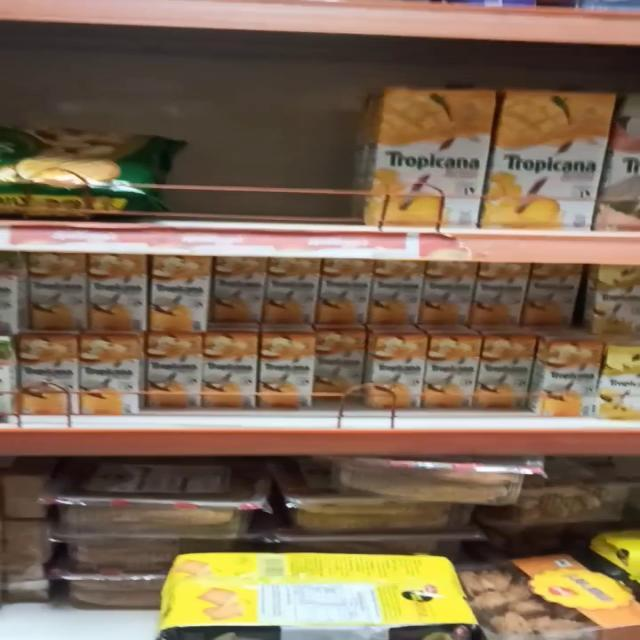Tropicana: (348, 79, 492, 226), (495, 82, 609, 230), (20, 254, 90, 330), (80, 333, 147, 412), (540, 341, 608, 417), (144, 336, 210, 412), (474, 338, 545, 408), (87, 250, 147, 332), (208, 252, 270, 326), (146, 258, 204, 332), (200, 335, 262, 404), (366, 261, 424, 330), (425, 336, 482, 404), (320, 262, 378, 328), (265, 336, 317, 408), (372, 338, 425, 408), (316, 332, 368, 400), (266, 258, 321, 320), (526, 261, 578, 326), (472, 263, 524, 326), (424, 262, 474, 326)
